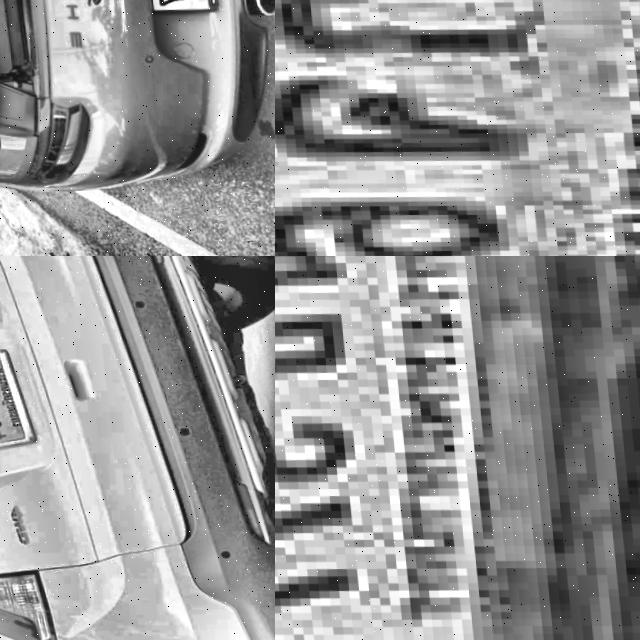license-plate: (275, 256, 640, 640), (275, 0, 640, 256), (0, 346, 33, 451)
